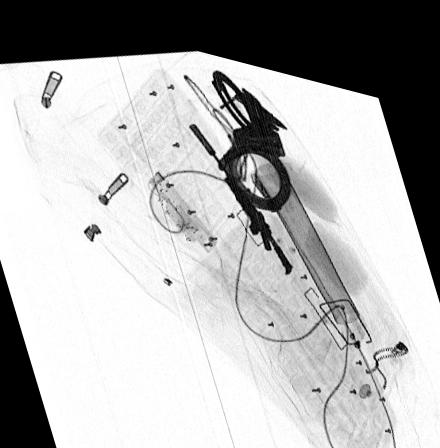Bullet: (235, 79, 287, 115)
Gun: (188, 113, 294, 261)
HandCuffs: (210, 60, 290, 199)
